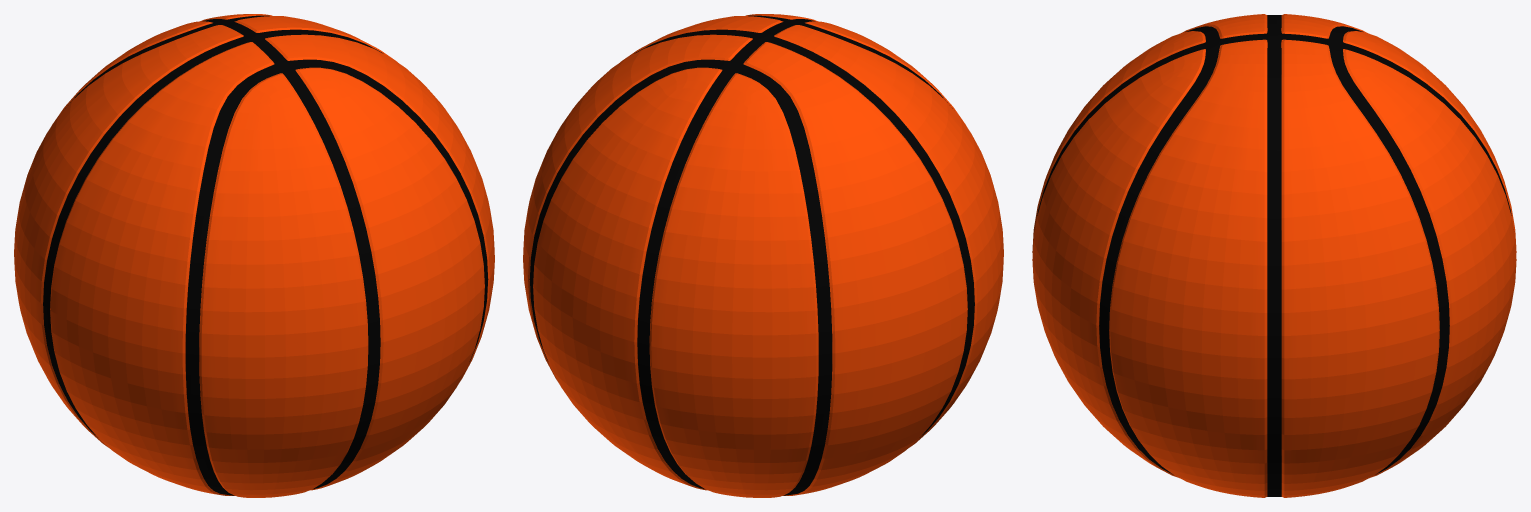
File: BasketballModel.fbx
The picture shows the model from 3 angles, left to right: view 1: azimuth 30°, elevation 25°; view 2: azimuth 150°, elevation 25°; view 3: azimuth 270°, elevation 25°; orthographic projection.
Visible parts, largest first — view 1: Basketball; view 2: Basketball; view 3: Basketball.
Part boxes in pixels (x1,y1,x2,y2): Basketball: [14, 14, 494, 497]; Basketball: [523, 14, 1003, 497]; Basketball: [1032, 14, 1516, 497].
Size of the model in its own units: 193 by 193 by 193.
